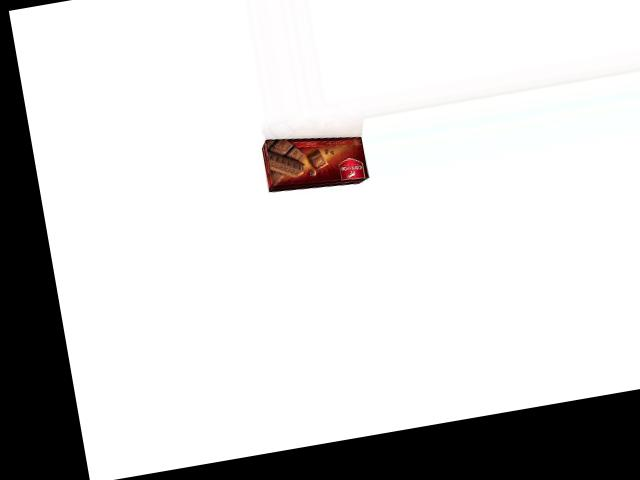chocolate: (261, 122, 370, 199)
